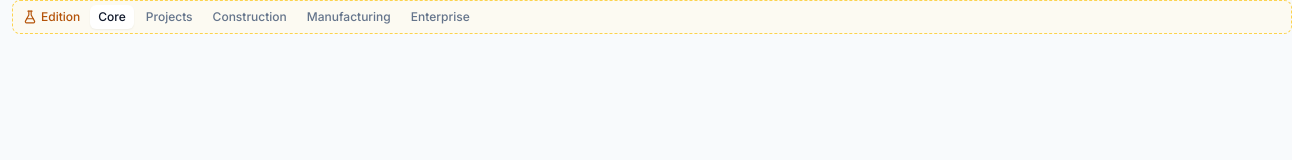
Test: DevelopmentEditionSwitcher › switches edition and updates a gated child immediately (no reload, no crash)
Expected: the text "projects-live" is not shown
Click the "Projects" edition button in the dev switcher.
Click the button "Projects" at (169, 17), box [138,5,201,29]
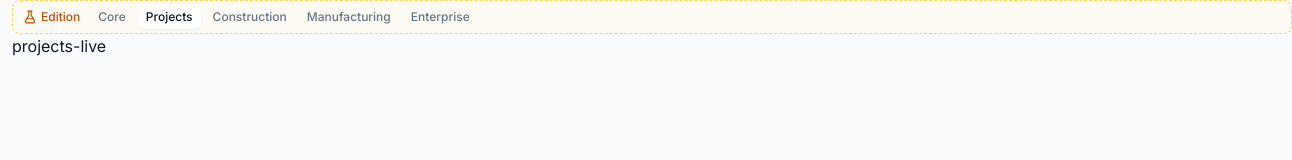
Expected: the text "projects-live" is shown, [12,36,106,56]
